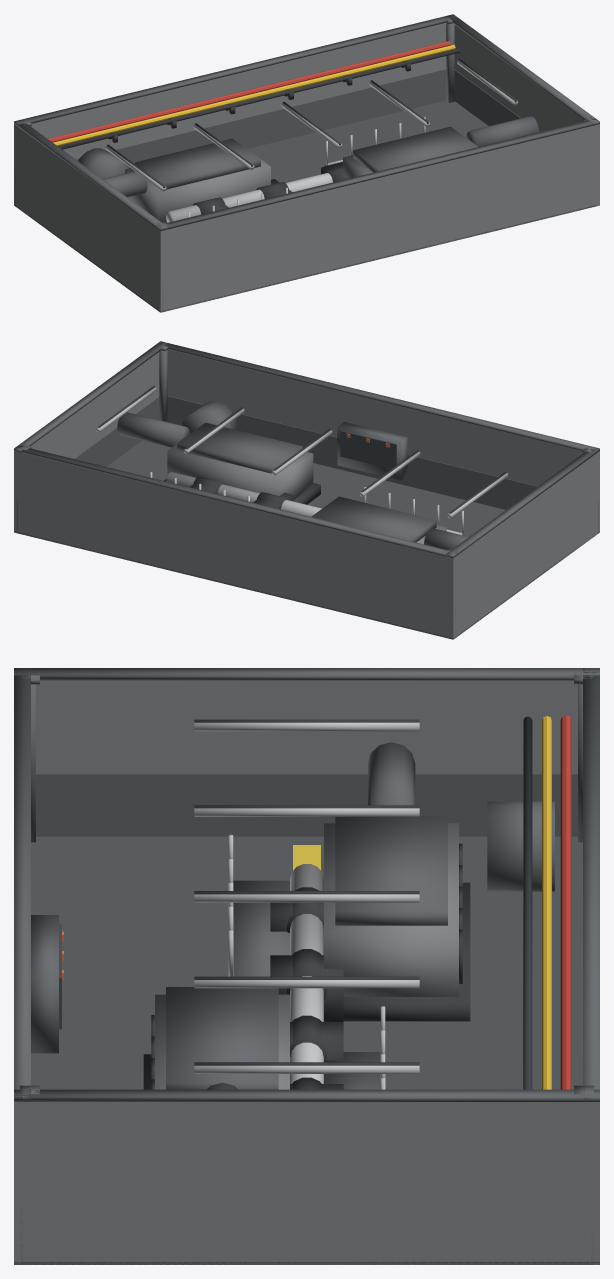
File: main-engine.glb
3 views of the same model, one above another, from view 1: azimuth 30°, elevation 25°; view 2: azimuth 150°, elevation 25°; view 3: azimuth 270°, elevation 25° (orthographic). The views are drawn at different scales.
Parts seen in each view (by area): view 1: MainEngineRoom; view 2: MainEngineRoom; view 3: MainEngineRoom.
Part boxes in pixels (left/top/right/bottom): MainEngineRoom: left=14, top=14, right=599, bottom=312; MainEngineRoom: left=14, top=341, right=599, bottom=639; MainEngineRoom: left=14, top=668, right=599, bottom=1264.
Bounding box in the file's own units: 18 × 3.29 × 10.4.
